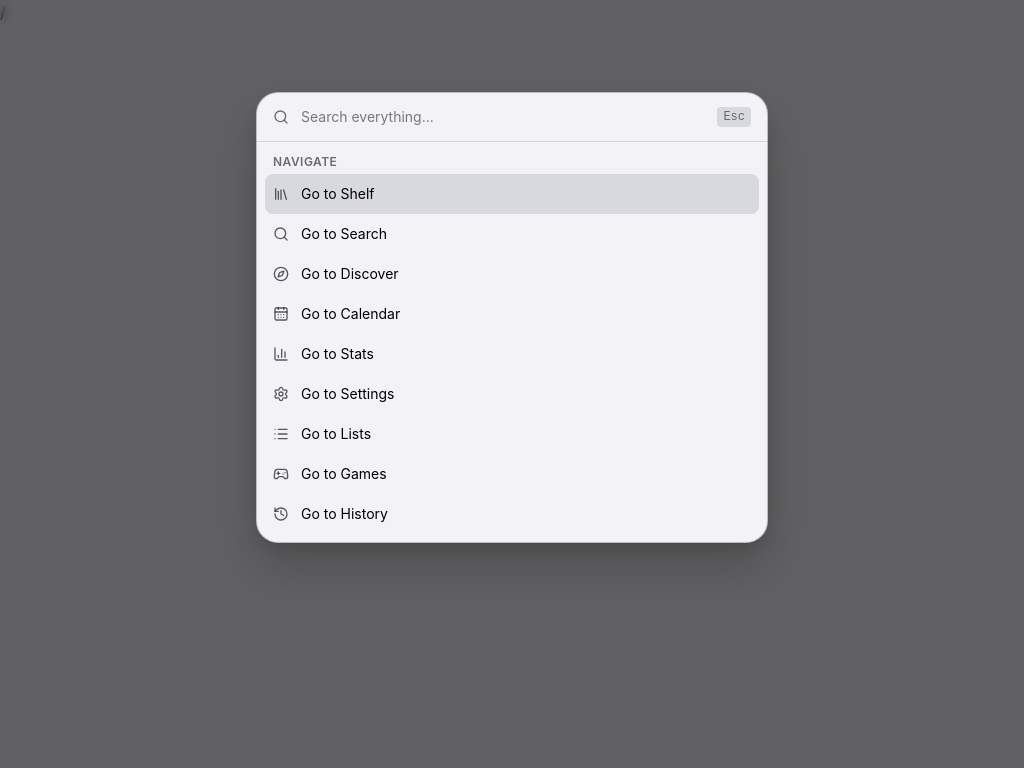
Test: CommandPalette › filters the actions as you type
The width and height of the screenshot is (1024, 768).
Type "settings" into the dropdown labelled "Search everything". click: (503, 117)
box: 301,107 -> 705,127
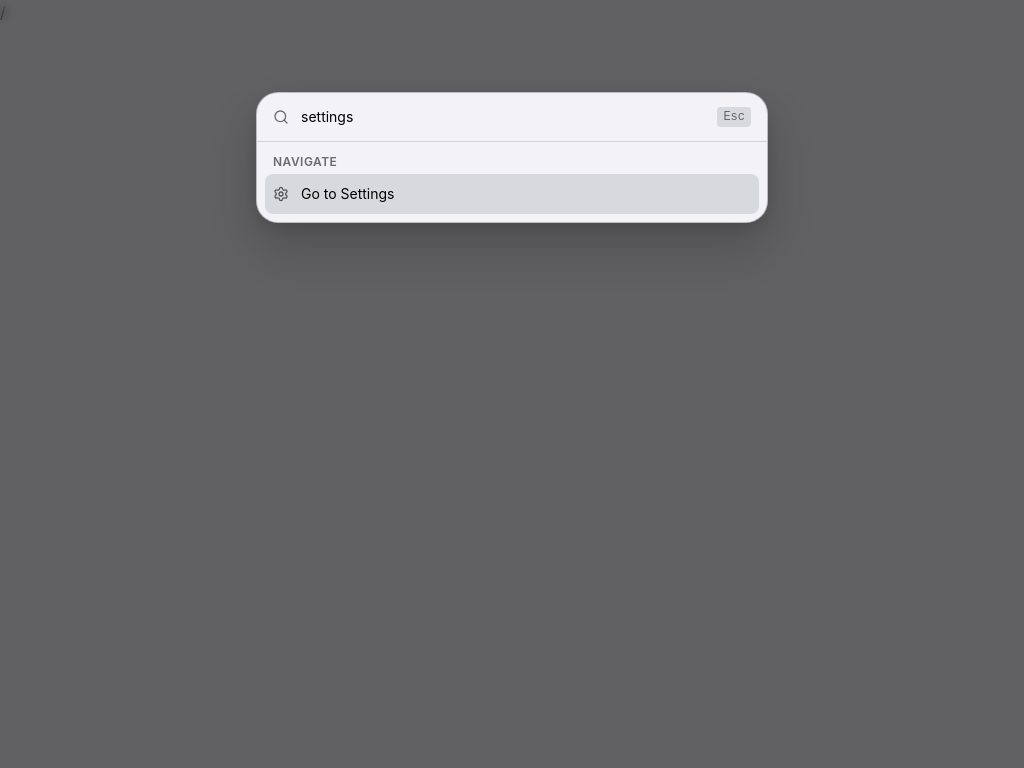
Check: the option "Go to Settings" is shown, box 265,174 -> 759,214
Check: the option "Go to Lists" is gone
